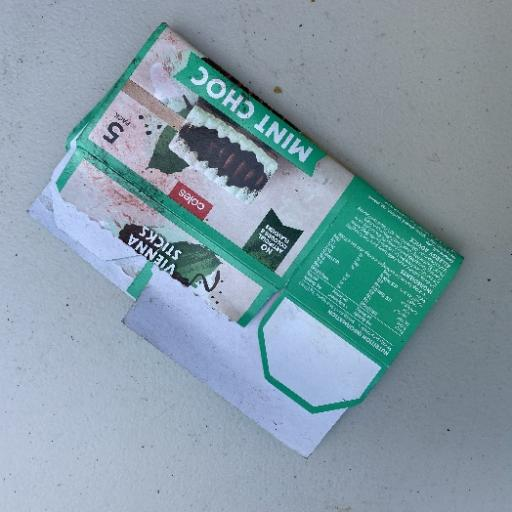Cardboard: (26, 22, 466, 459)
